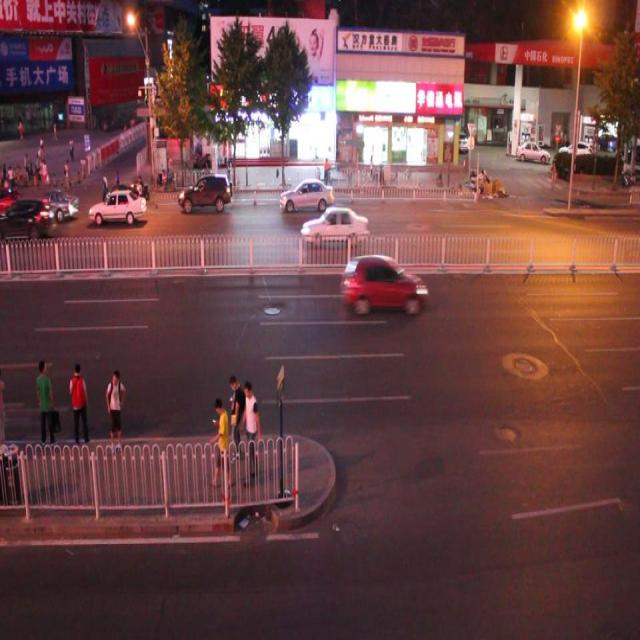car: (341, 250, 427, 317), (300, 203, 369, 249), (175, 172, 237, 217), (278, 175, 335, 220), (1, 196, 58, 239), (25, 186, 81, 226), (89, 188, 147, 223), (101, 180, 145, 223)
